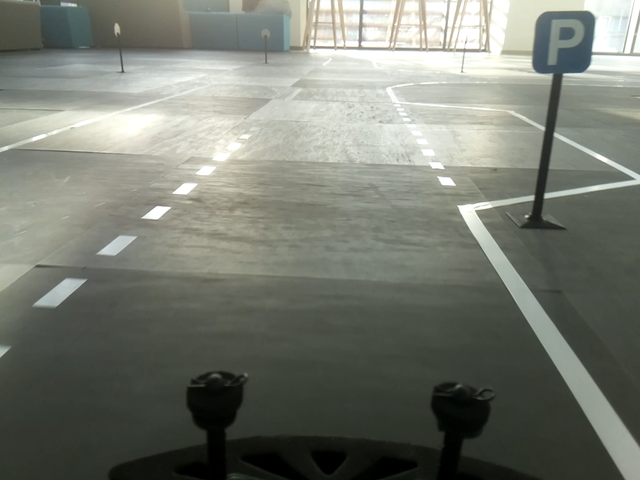parking: (531, 10, 594, 74)
